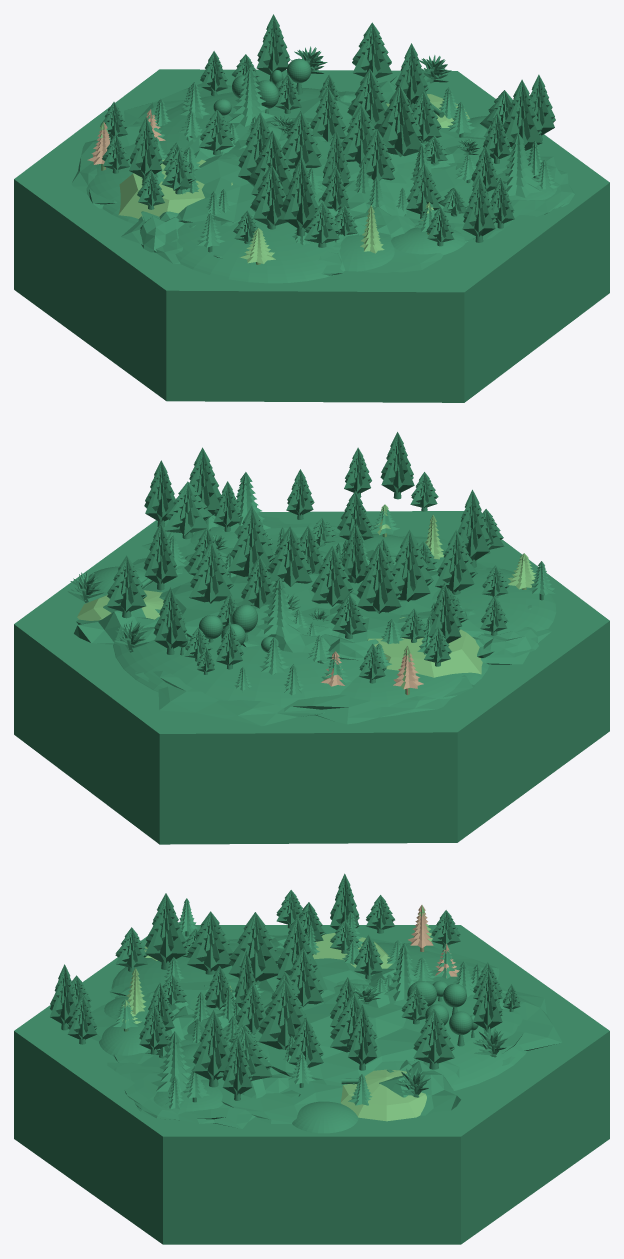
Rendered from forest_2.glb.
3 renders of one model, top to bottom at view 1: azimuth 30°, elevation 25°; view 2: azimuth 150°, elevation 25°; view 3: azimuth 270°, elevation 25°, orthographic. The views are drawn at different scales.
Visible parts, largest first — view 1: Mesh_Mesh_head_geo.001_lambert2SG.001; view 2: Mesh_Mesh_head_geo.001_lambert2SG.001; view 3: Mesh_Mesh_head_geo.001_lambert2SG.001.
Boxes of the visible parts, x1,y1,x2,y2 form: Mesh_Mesh_head_geo.001_lambert2SG.001: (14,14,609,402); Mesh_Mesh_head_geo.001_lambert2SG.001: (14,432,609,844); Mesh_Mesh_head_geo.001_lambert2SG.001: (14,873,609,1244).
Size of the model in its own units: 84 by 38 by 100.
